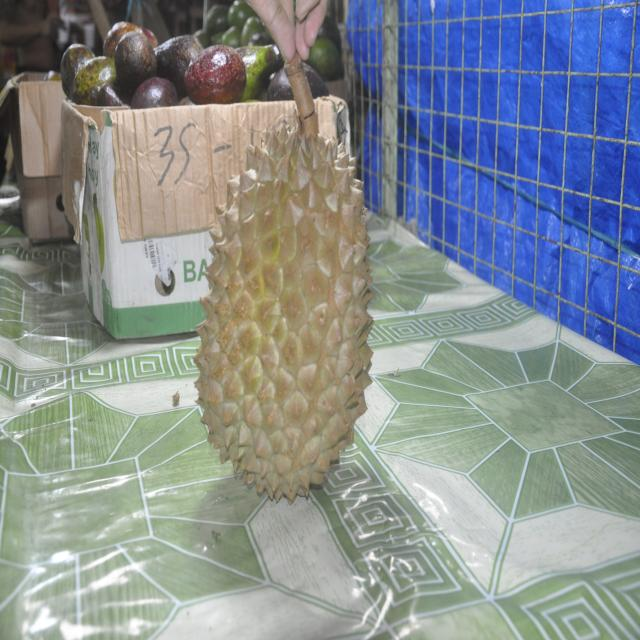mature: (196, 56, 373, 502)
